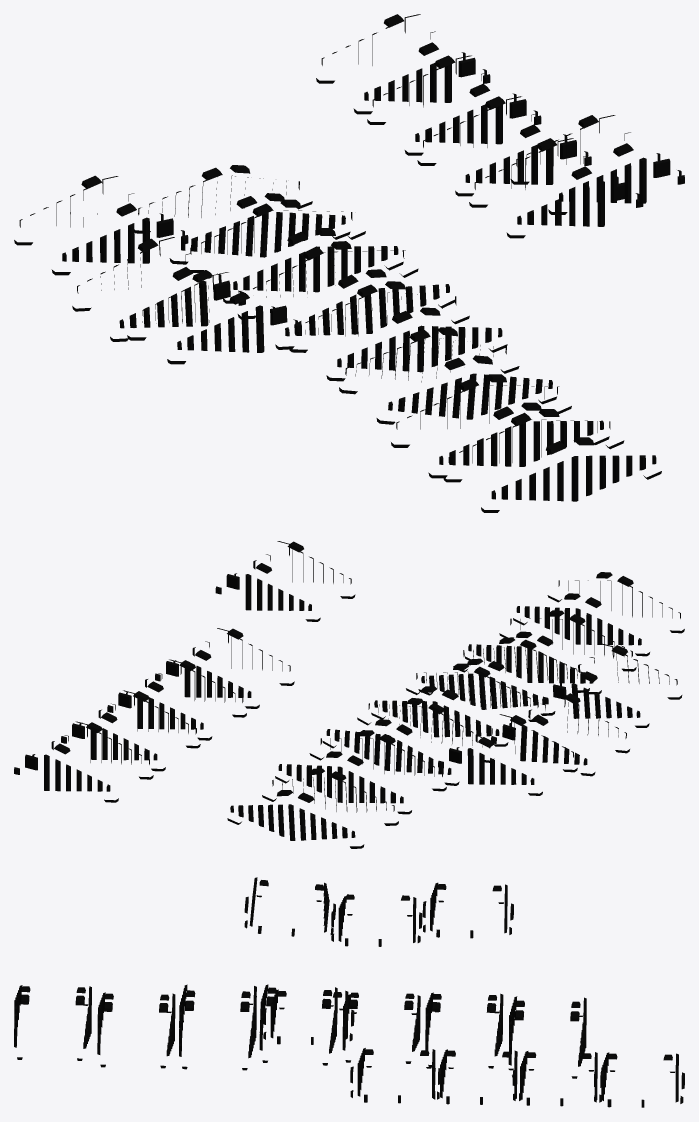
The model's file is prop_static_tan_container_01_10_0.glb.
3 renders of one model, top to bottom at view 1: azimuth 30°, elevation 25°; view 2: azimuth 150°, elevation 25°; view 3: azimuth 270°, elevation 25°, orthographic. The views are drawn at different scales.
Visible parts, largest first — view 1: tan_container_01_10_LOD0; view 2: tan_container_01_10_LOD0; view 3: tan_container_01_10_LOD0.
Boxes of the visible parts, x1,y1,x2,y2 form: tan_container_01_10_LOD0: (14,14,684,512); tan_container_01_10_LOD0: (14,541,684,848); tan_container_01_10_LOD0: (14,877,684,1107).
Size of what is drawn, in the model's own units: 12.36 by 3.75 by 17.52.
1 material, 1 textured.
